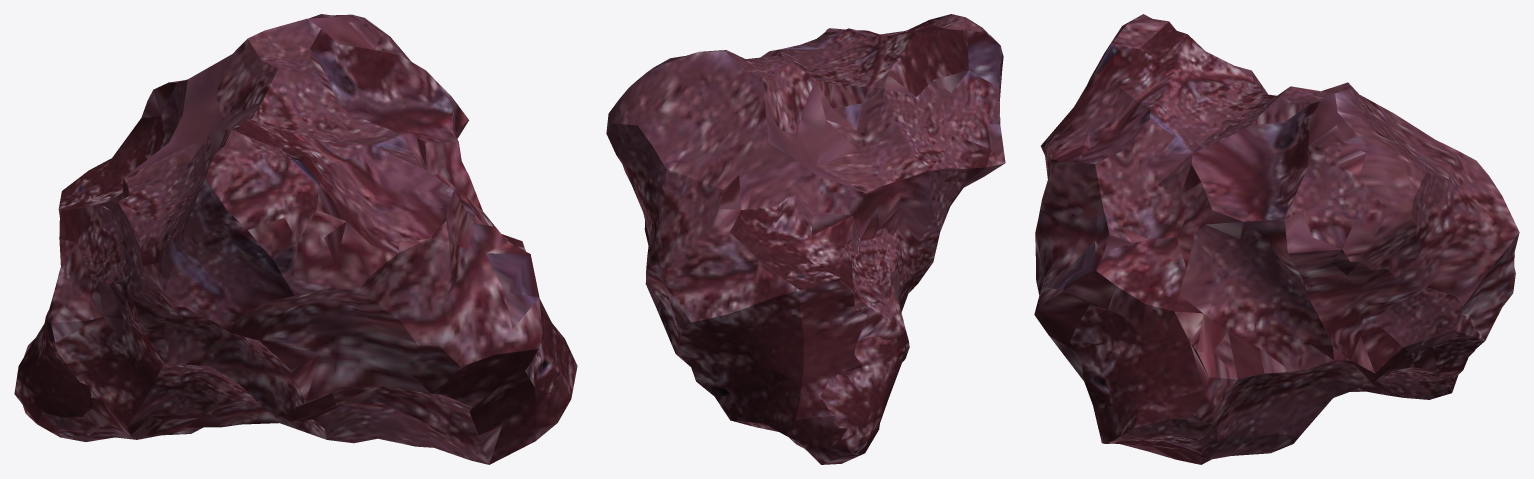
Rendered from AuthenticMeatChunk01.fbx.
3 views of the same model, side by side, from view 1: azimuth 30°, elevation 25°; view 2: azimuth 150°, elevation 25°; view 3: azimuth 270°, elevation 25° (orthographic). The views are drawn at different scales.
Visible parts, largest first — view 1: rock.002; view 2: rock.002; view 3: rock.002.
Part boxes in pixels (x1,y1,x2,y2): rock.002: (14,14,577,464); rock.002: (606,14,1005,464); rock.002: (1034,14,1519,464).
Bounding box in the file's own units: 0.0843 × 0.0817 × 0.0997.
